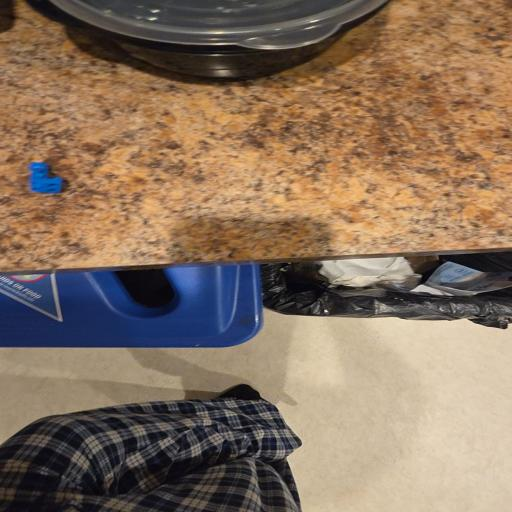Blue: (29, 163, 63, 193)
